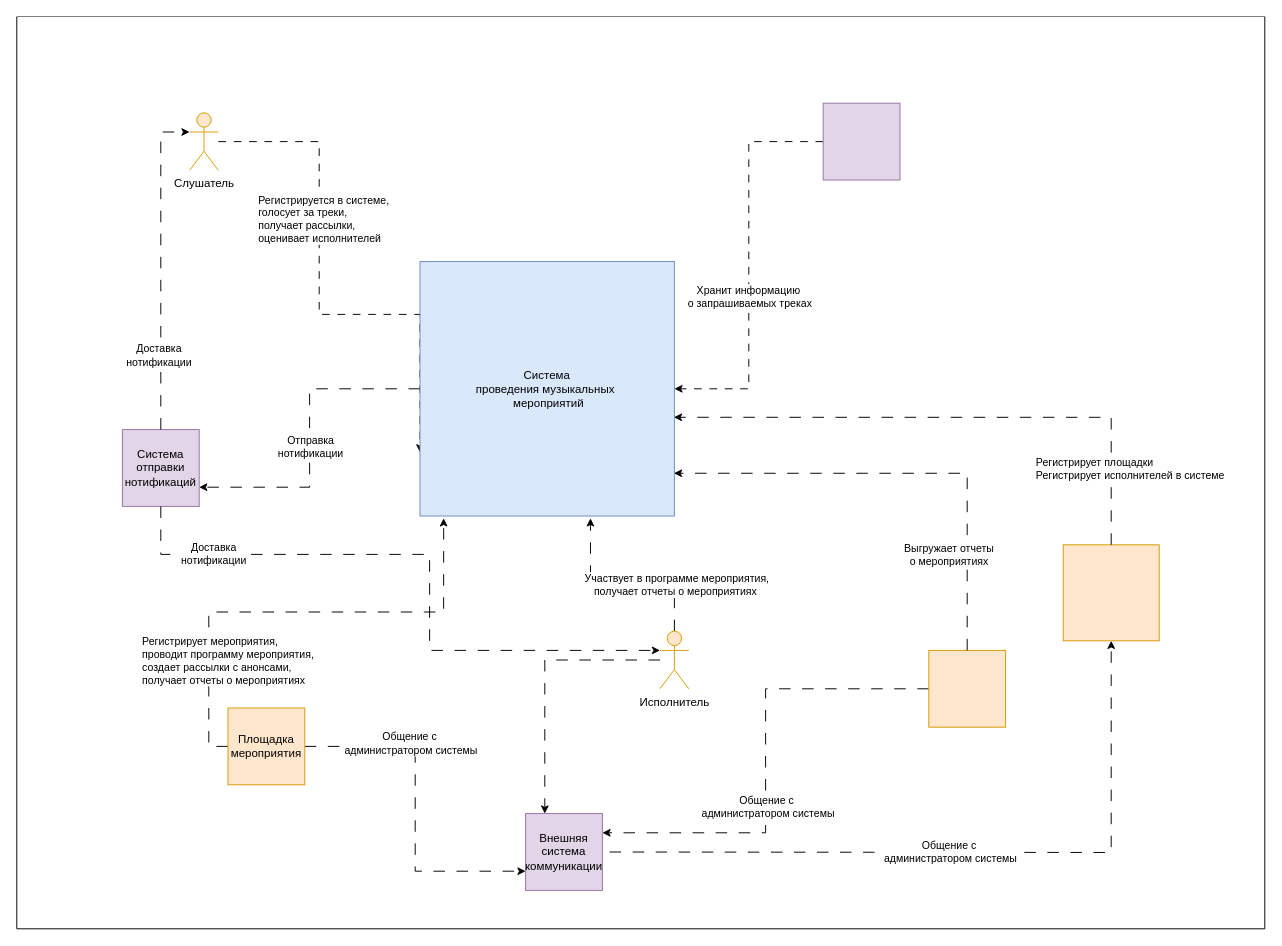
Some shapes in this 1282 by 946 pixel diagram are drawn without their labels. Here are the shapes that lost their labels. From the top down, the centre of each, then its label:
At (861,141): "БД треков радиостанции".
At (1110,592): "Администратор системы".
At (967,688): "Бизнес-партнер".
